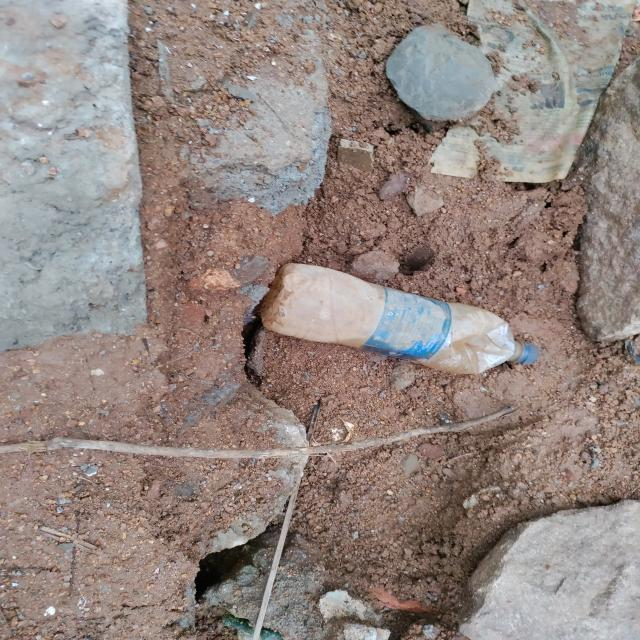dry: (267, 258, 548, 383)
